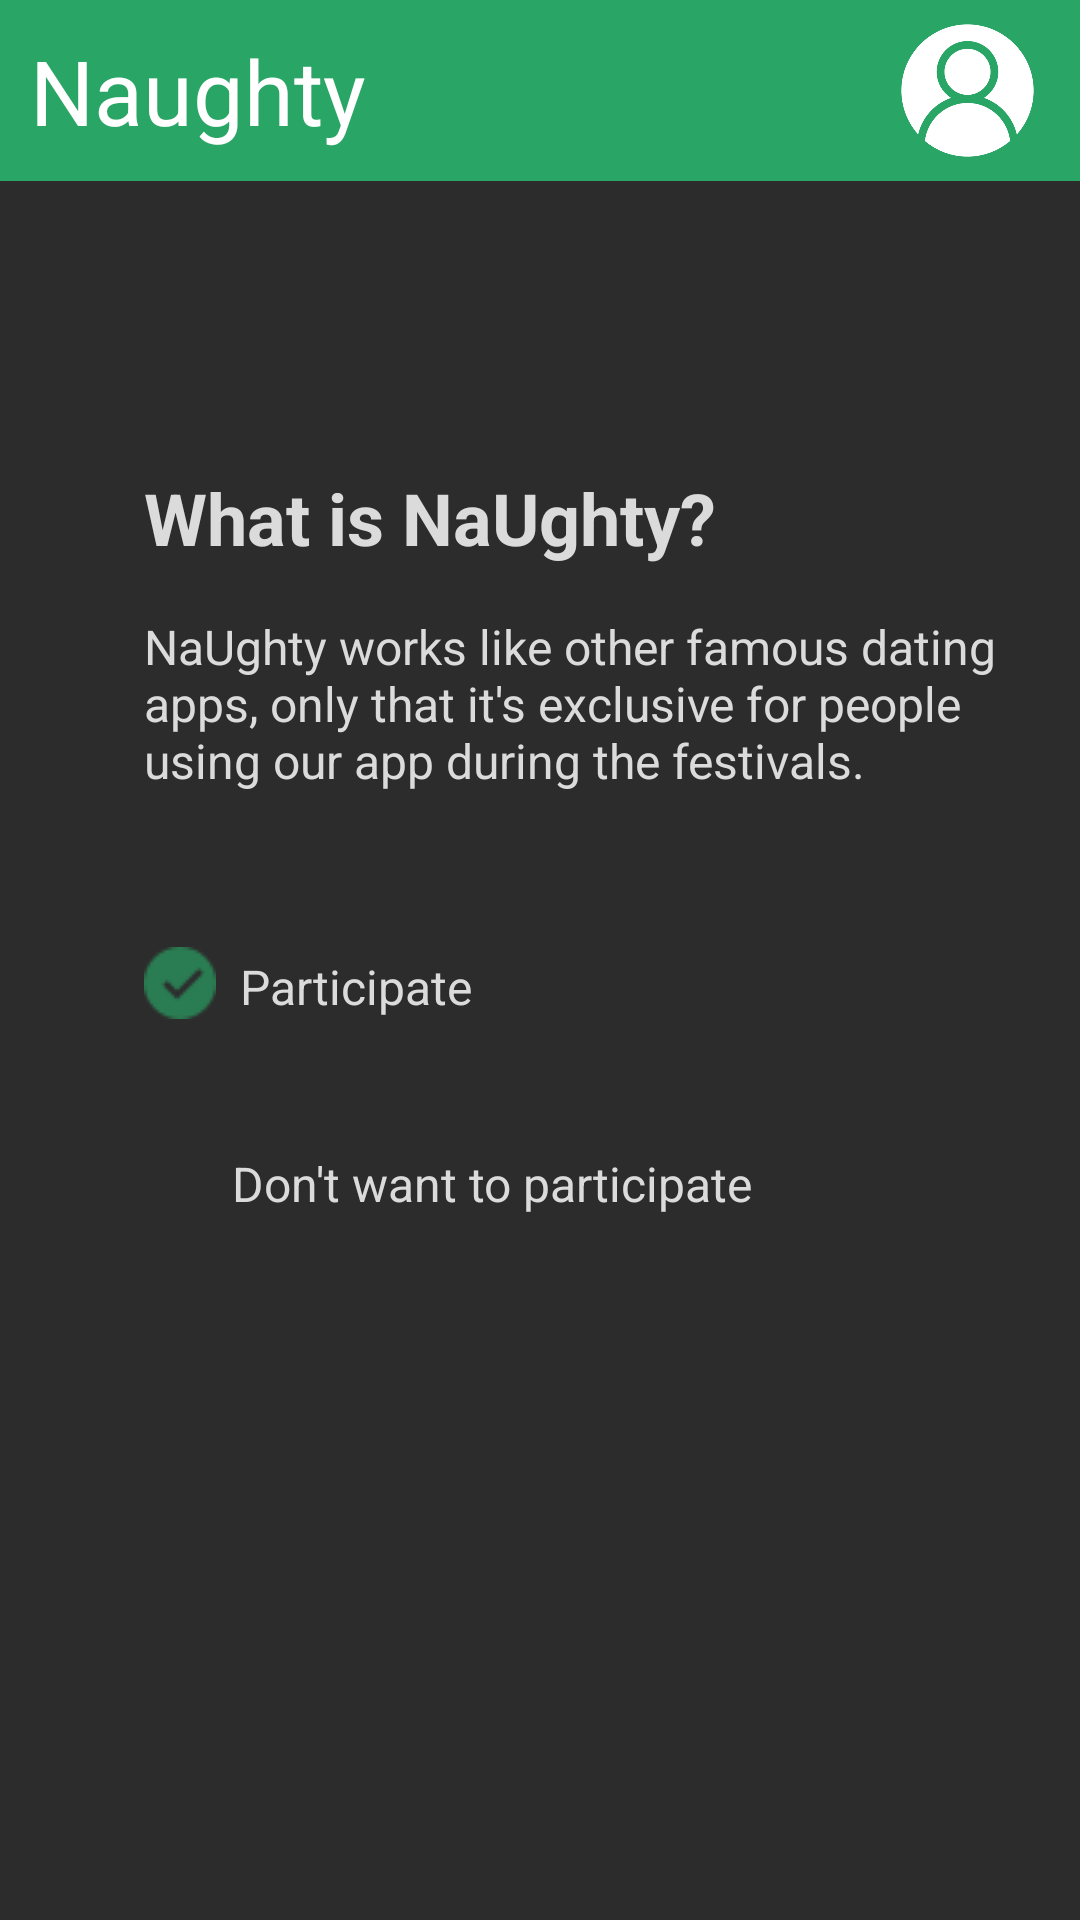

Screen size 1080×1920. Icon name, then its center in pixels as (x,y):
user: (967,90)
